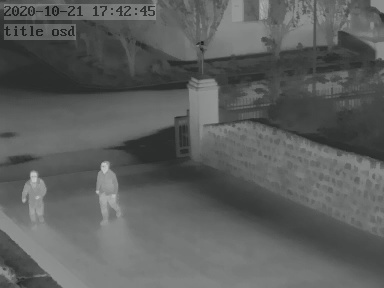person: (94, 157, 120, 221), (19, 168, 46, 225)
